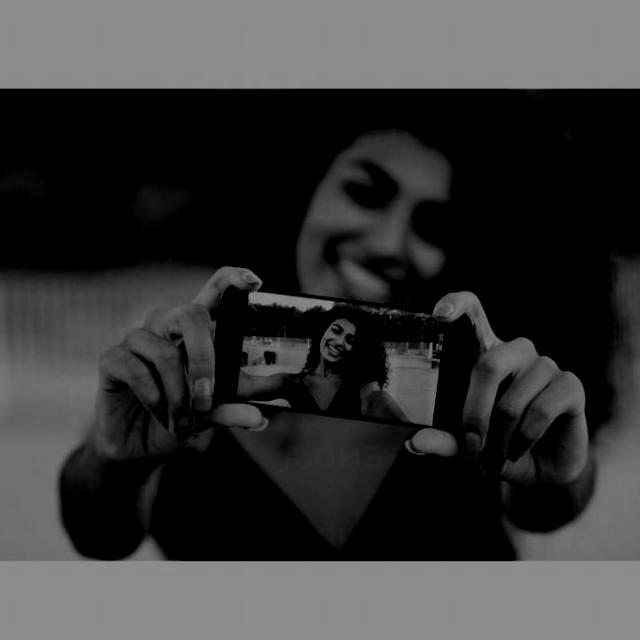fake: (206, 273, 486, 428)
